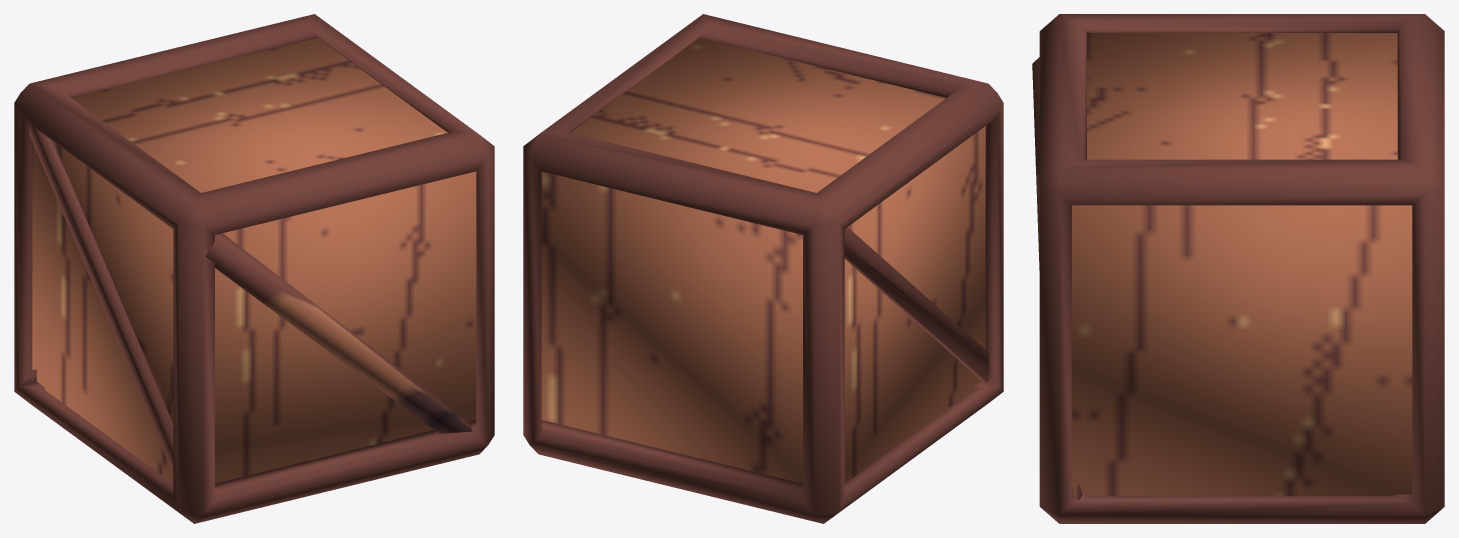
The model's file is Caixa.fbx.
3 views of the same model, side by side, from view 1: azimuth 30°, elevation 25°; view 2: azimuth 150°, elevation 25°; view 3: azimuth 270°, elevation 25° (orthographic). The views are drawn at different scales.
Visible parts, largest first — view 1: Caixa; view 2: Caixa; view 3: Caixa.
Boxes of the visible parts, box(x1,y1,x2,y2) form: Caixa: box(14, 14, 494, 523); Caixa: box(523, 14, 1003, 523); Caixa: box(1032, 14, 1444, 523).
Size of the model in its own units: 186 by 189 by 180.
